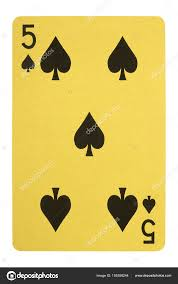five of spades: (12, 15, 166, 253)
